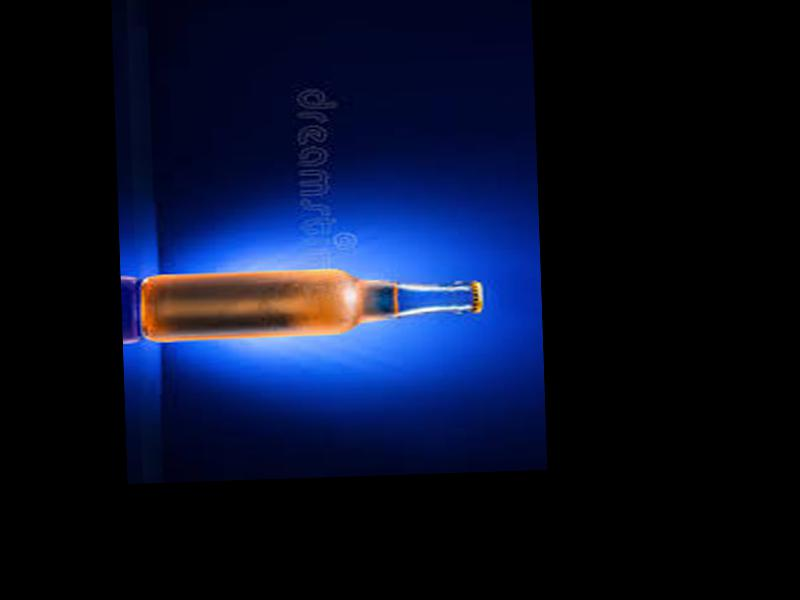Beer: (140, 262, 484, 345)
